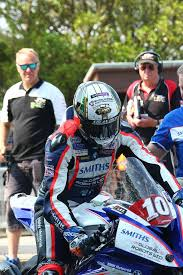helmet: (68, 77, 128, 153)
